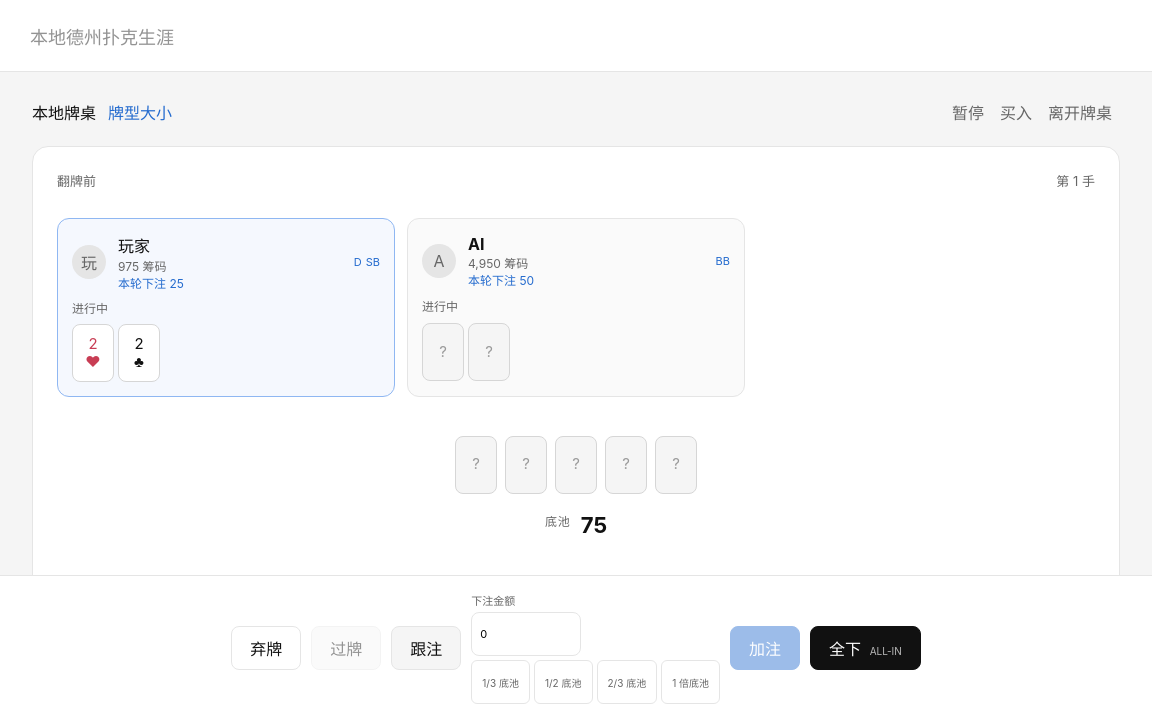
Test: cash buy-in table UI › disables buy-in after leave request without changing current-hand state
The image size is (1152, 720).
Click the button with test id "leave-table": (1080,112) x1=1040 y1=92 x2=1120 y2=132
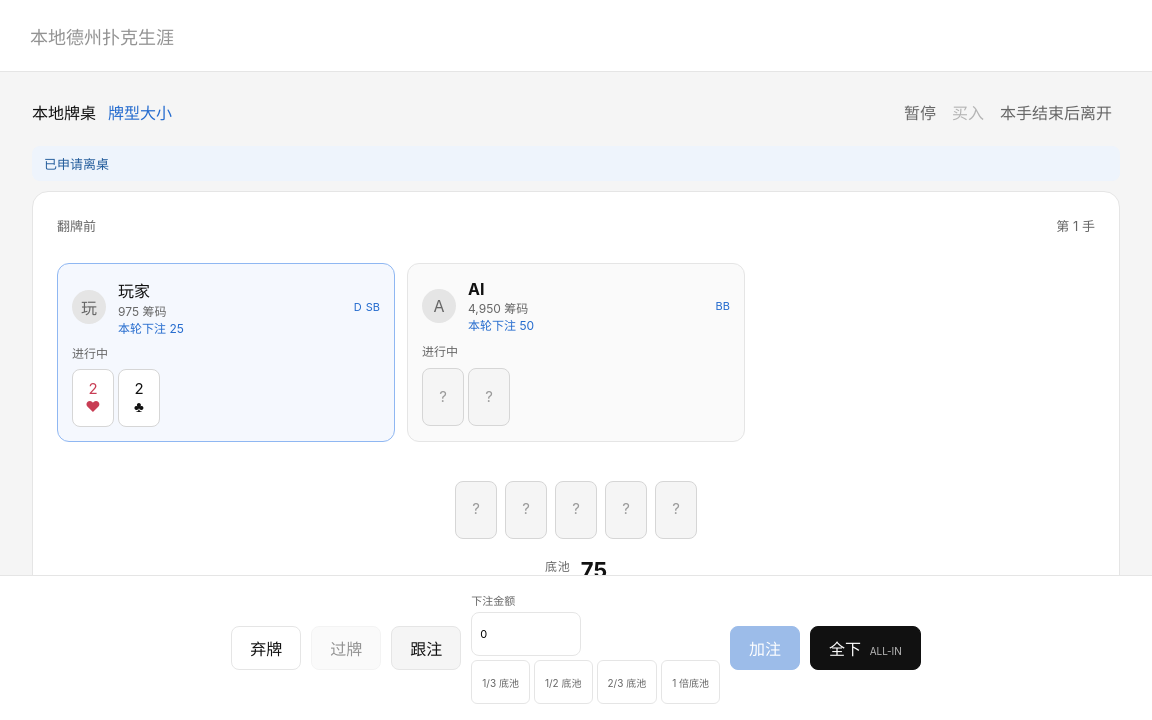
Now the button with test id "cash-buy-in" is disabled, box x1=944 y1=92 x2=992 y2=132
